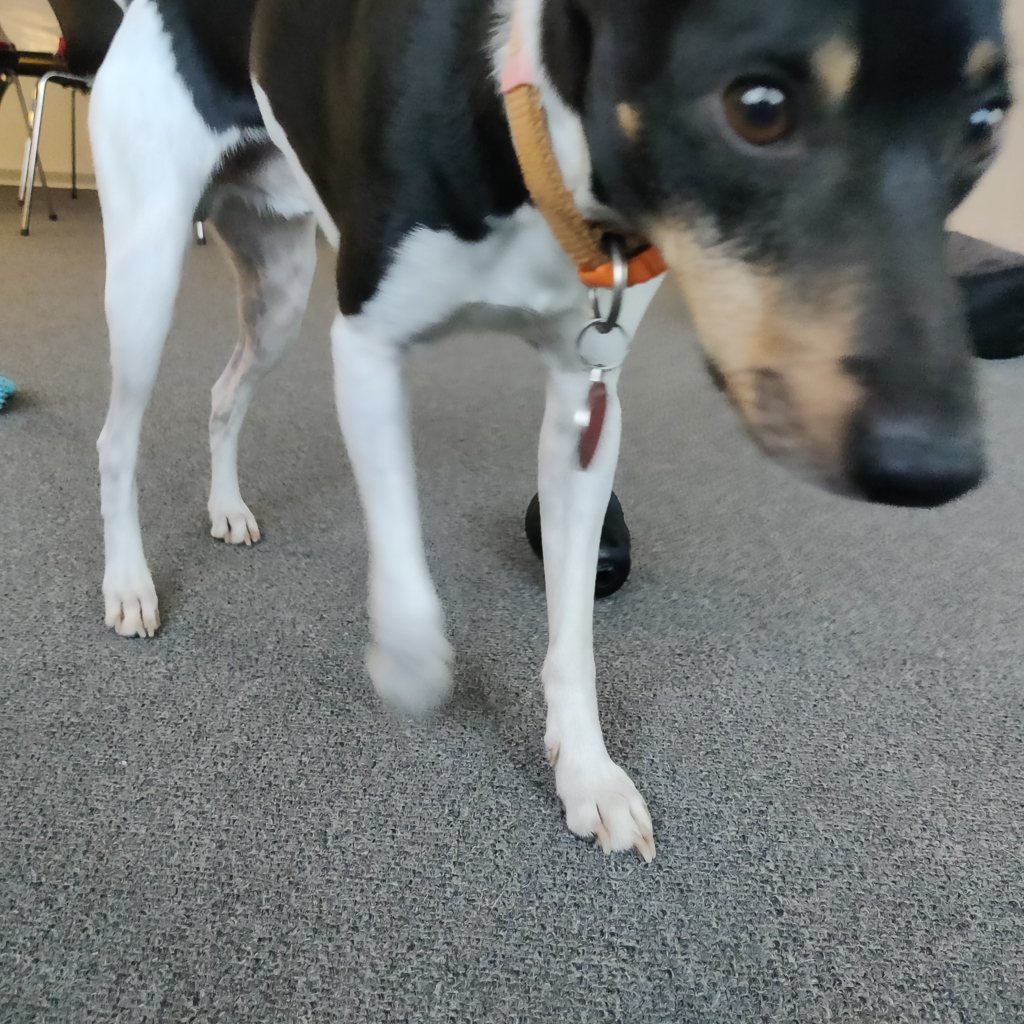Dog: (63, 0, 1020, 887)
